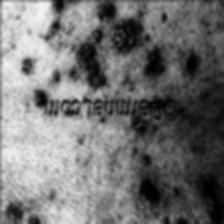Non-Cancerous Skin Condition: (51, 0, 161, 94)
